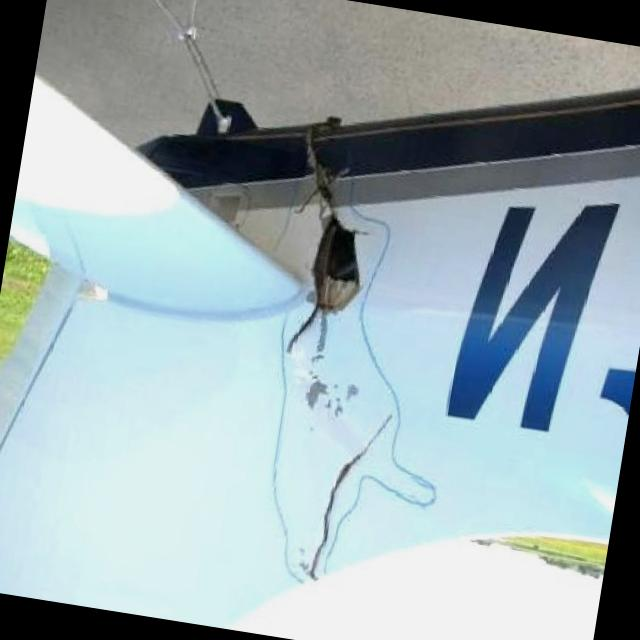crack: (302, 402, 380, 574)
